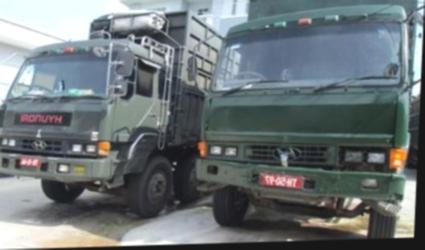License_Plate: (256, 168, 304, 193), (17, 157, 42, 168)
